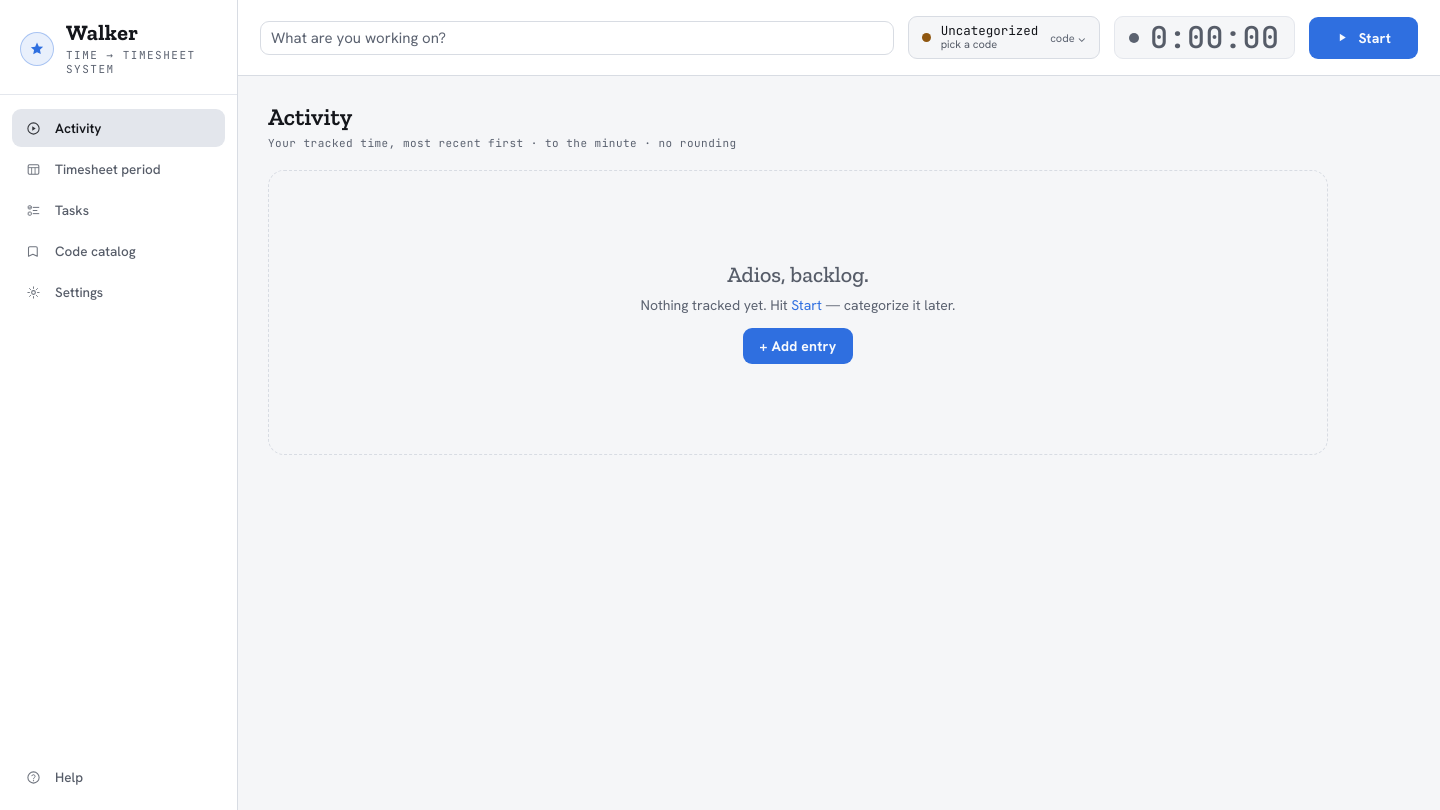
Test: App — entry mutation safety (BIZ-011) › "+ Add entry" followed by cancel leaves no persisted Entry
Expected: the text "Adios, backlog." is shown, top-left (727, 261), bottom-right (869, 288)
Click the button "+ Add entry" at (798, 346), box top-left (743, 328), bottom-right (853, 364)
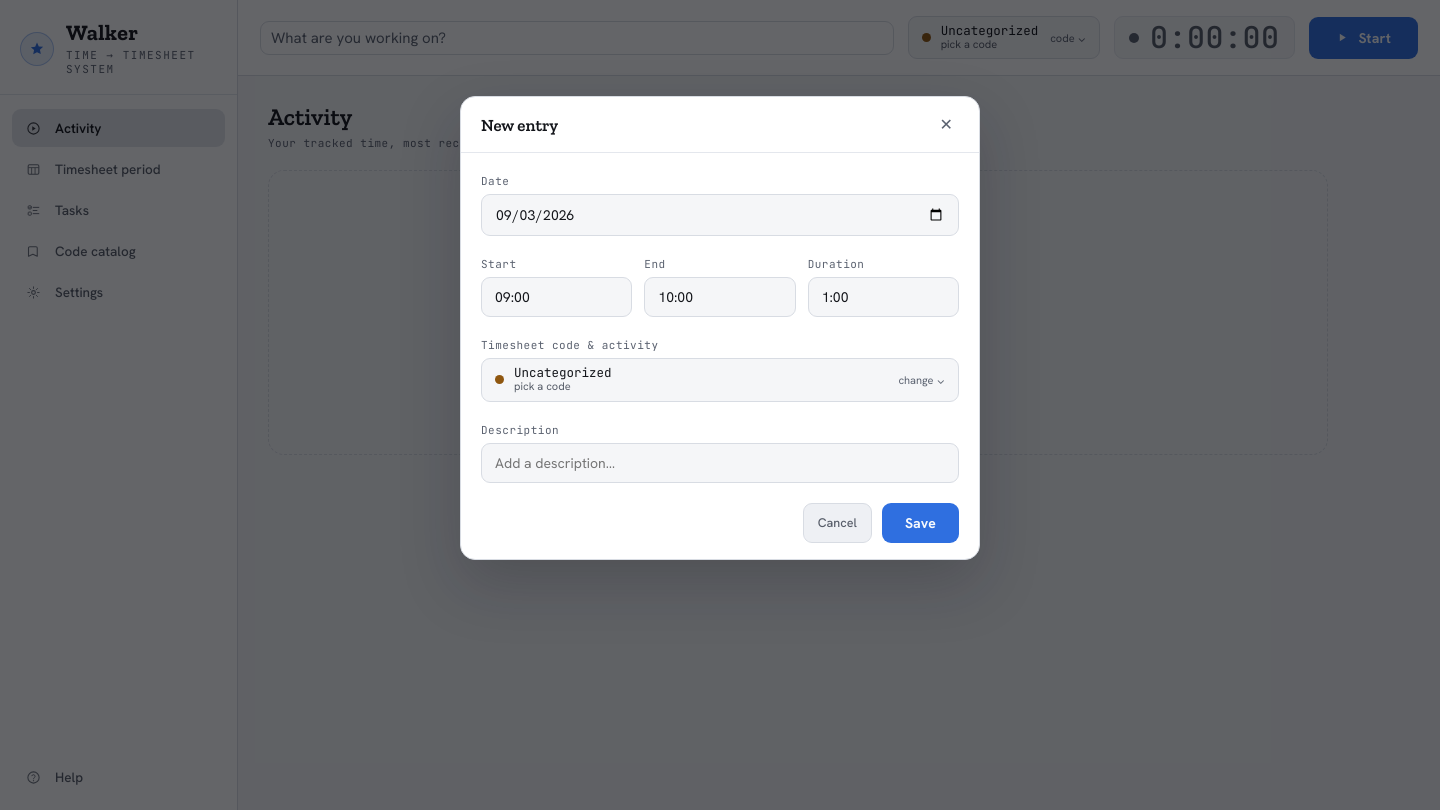
Click the button "Cancel" at (837, 523), box top-left (803, 503), bottom-right (872, 543)
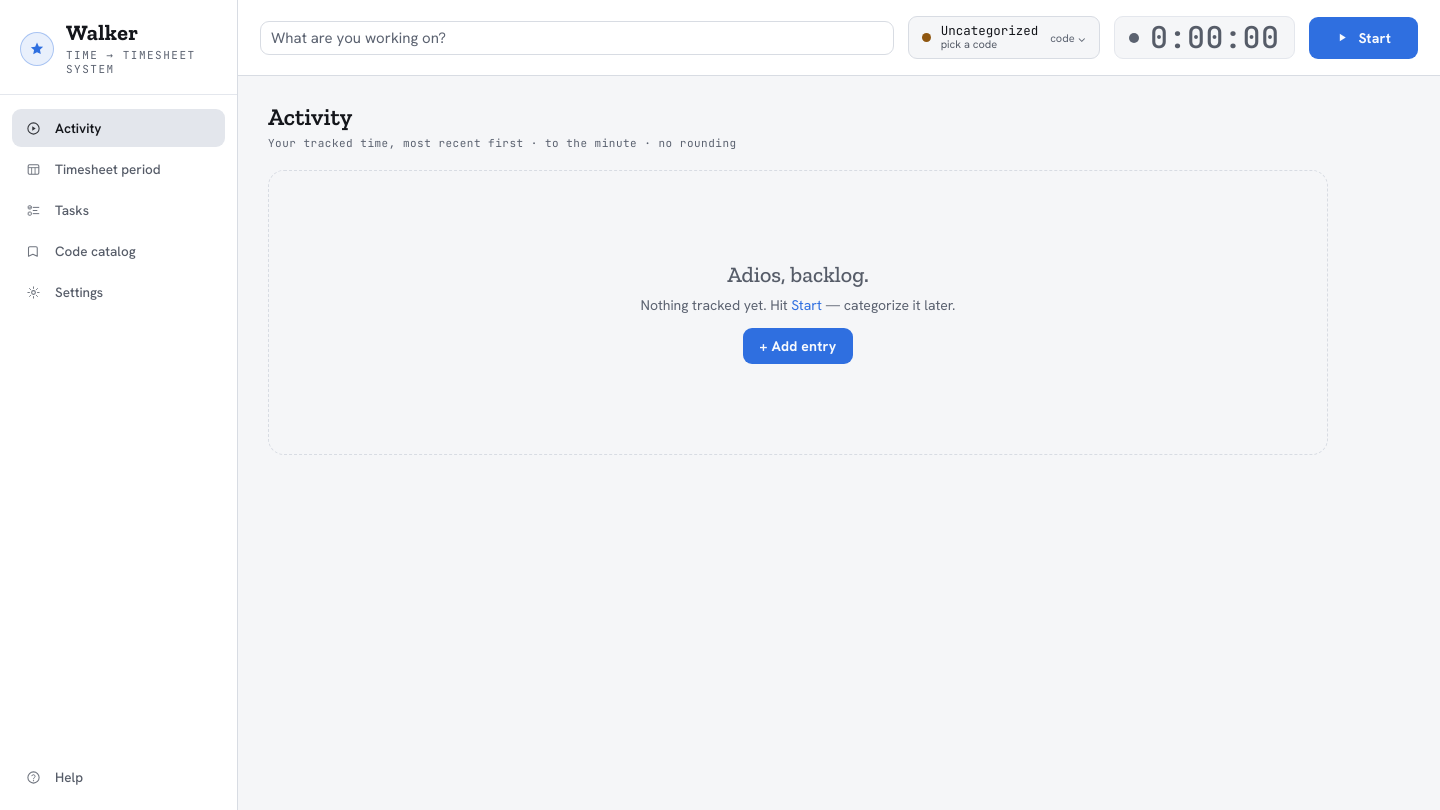
Expected: the text "New entry" is gone
